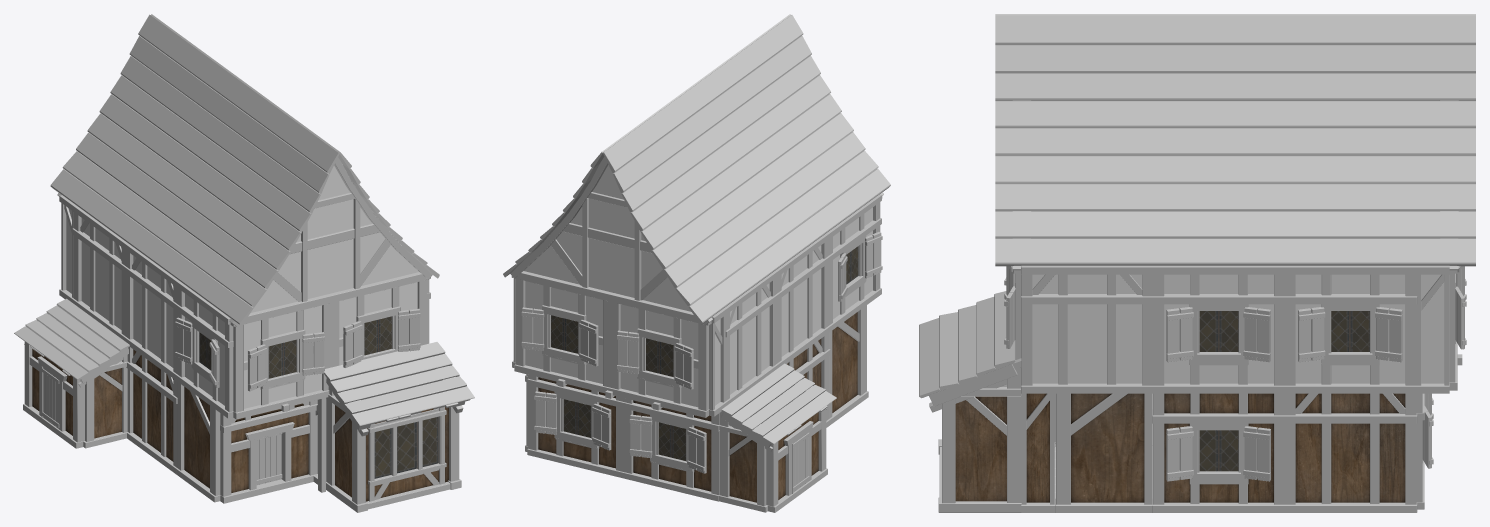
Rendered from House_1A15.fbx.
3 views of the same model, side by side, from view 1: azimuth 30°, elevation 25°; view 2: azimuth 150°, elevation 25°; view 3: azimuth 270°, elevation 25° (orthographic). The views are drawn at different scales.
Visible parts, largest first — view 1: House_1A15, Plane.201, Cube.2345, Plane.202, Plane.203, Cube.2355; view 2: House_1A15, Plane.210, Plane.209, Plane.205, Plane.204, Cube.2355; view 3: House_1A15, Plane.208, Plane.206, Plane.207.
Part boxes in pixels (box(x1,y1,x2,y2)): House_1A15: box(14, 14, 474, 512); Plane.201: box(374, 416, 438, 478); Cube.2345: box(256, 433, 282, 485); Plane.202: box(268, 340, 296, 378); Plane.203: box(364, 316, 391, 355); Cube.2355: box(41, 366, 59, 428); House_1A15: box(503, 14, 890, 512); Plane.210: box(563, 399, 591, 437); Plane.209: box(658, 422, 686, 460); Plane.205: box(551, 315, 578, 353); Plane.204: box(646, 338, 673, 376); Cube.2355: box(792, 432, 809, 493); House_1A15: box(919, 14, 1475, 512); Plane.208: box(1199, 430, 1238, 471); Plane.206: box(1199, 311, 1238, 351); Plane.207: box(1331, 311, 1369, 351).
Size of the model in its own units: 1207 by 1514 by 1744.
